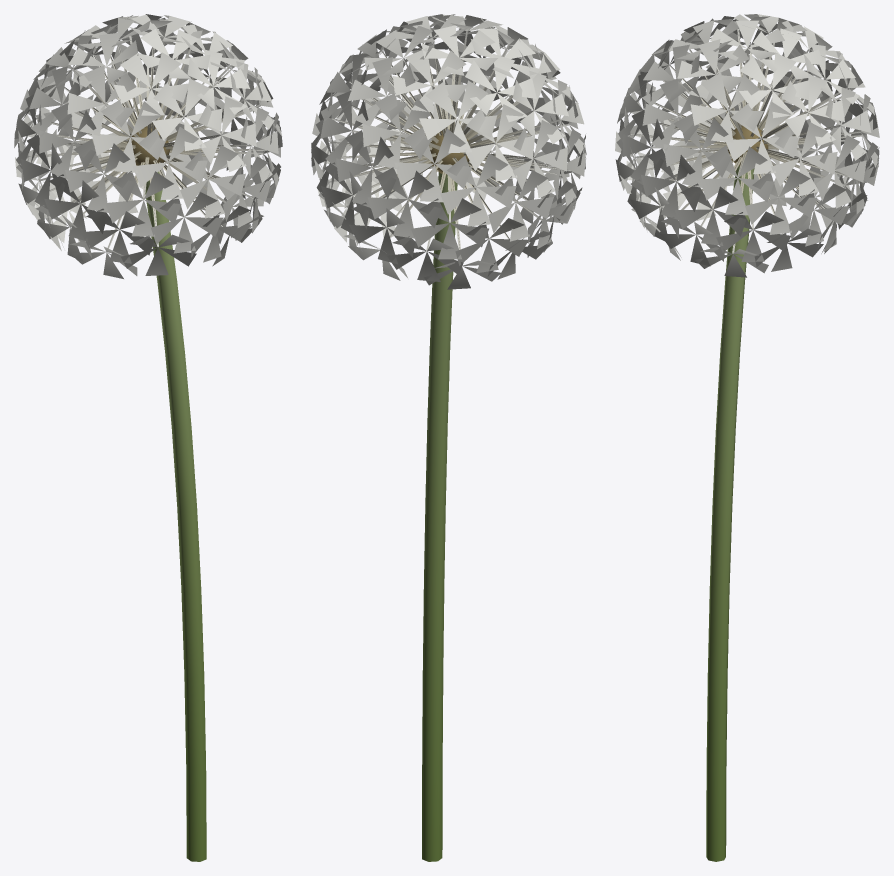
The model's file is DandelionPuff.fbx.
3 renders of one model, left to right at view 1: azimuth 30°, elevation 25°; view 2: azimuth 150°, elevation 25°; view 3: azimuth 270°, elevation 25°, orthographic. The views are drawn at different scales.
Parts seen in each view (by area): view 1: DandelionPuff; view 2: DandelionPuff; view 3: DandelionPuff.
Boxes of the visible parts, x1,y1,x2,y2 form: DandelionPuff: (14, 14, 282, 861); DandelionPuff: (311, 14, 586, 861); DandelionPuff: (615, 14, 879, 861).
Size of the model in its own units: 1.69 by 5.73 by 1.69.
